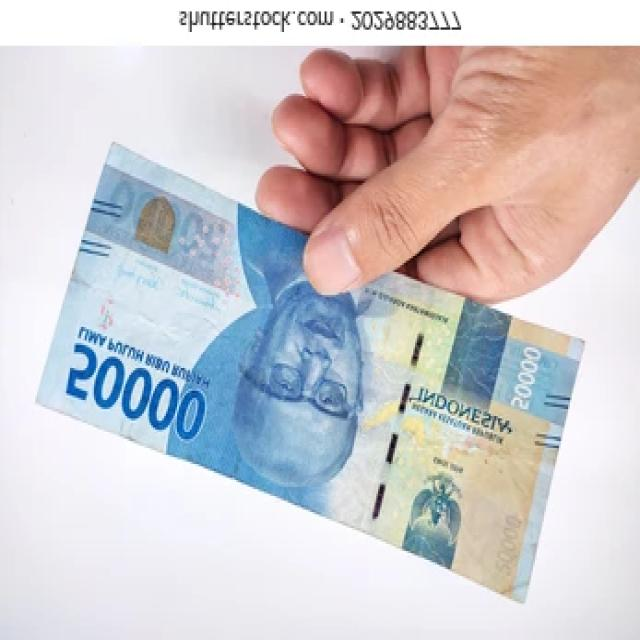lima puluh ribu rupiah: (38, 144, 585, 609)
